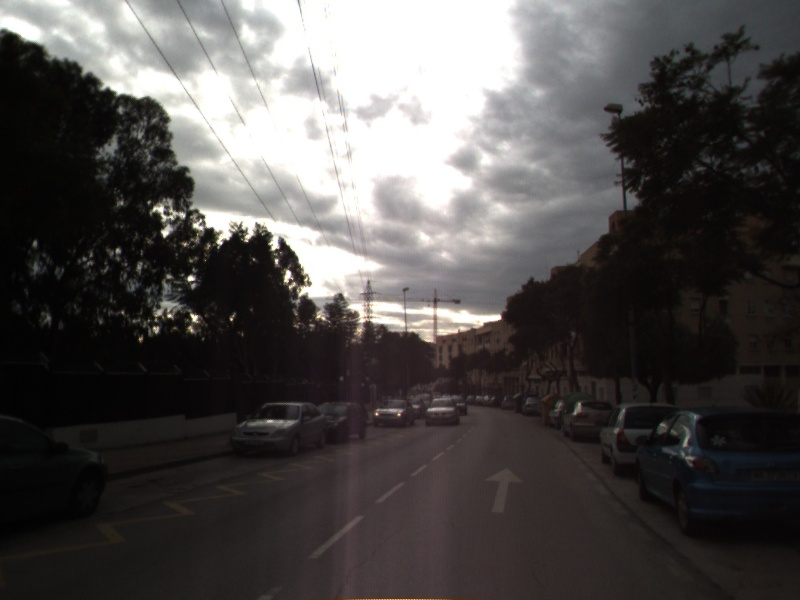STRAIGHT: (482, 465, 526, 515)
